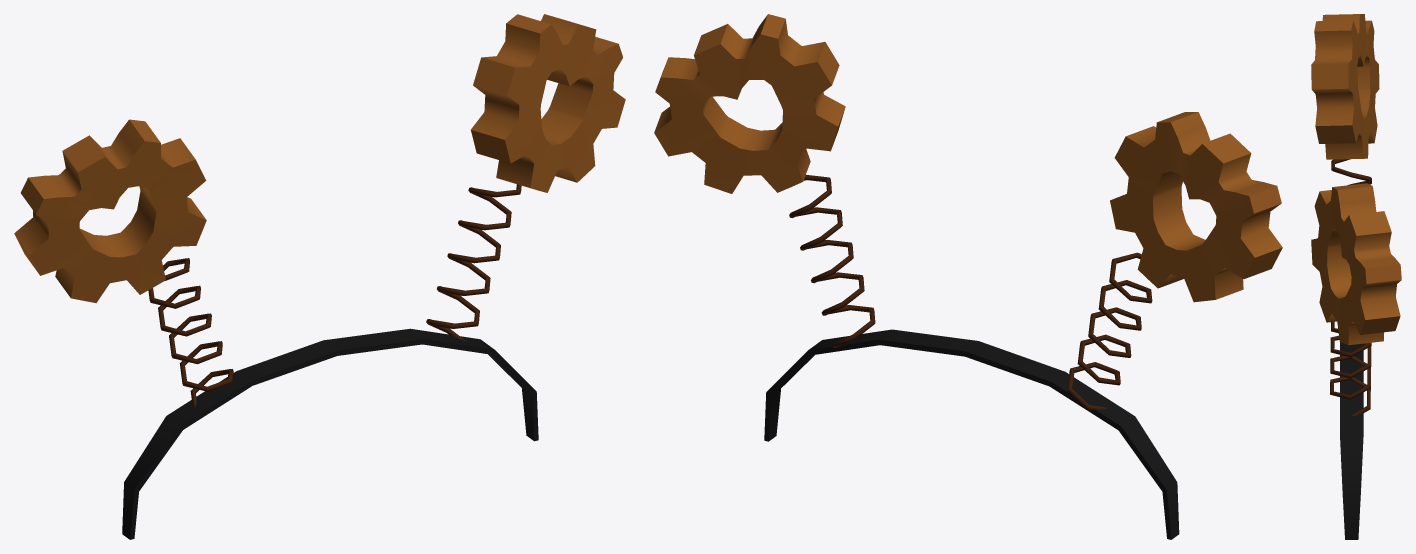
File: steampunk_2024.obj
3 views of the same model, side by side, from view 1: azimuth 30°, elevation 25°; view 2: azimuth 150°, elevation 25°; view 3: azimuth 270°, elevation 25° (orthographic). The views are drawn at different scales.
Visible parts, largest first — view 1: 2, 0, 1; view 2: 2, 0, 1; view 3: 2, 0, 1.
Part boxes in pixels (x1,y1,x2,y2): 2: (14,14,625,303); 0: (122,328,538,539); 1: (148,184,521,407); 2: (654,14,1282,302); 0: (764,329,1179,539); 1: (789,174,1152,410); 2: (1311,14,1401,345); 0: (1340,342,1363,539); 1: (1330,159,1371,415).
Size of the model in its own units: 0.5947 by 0.3887 by 0.0904.
